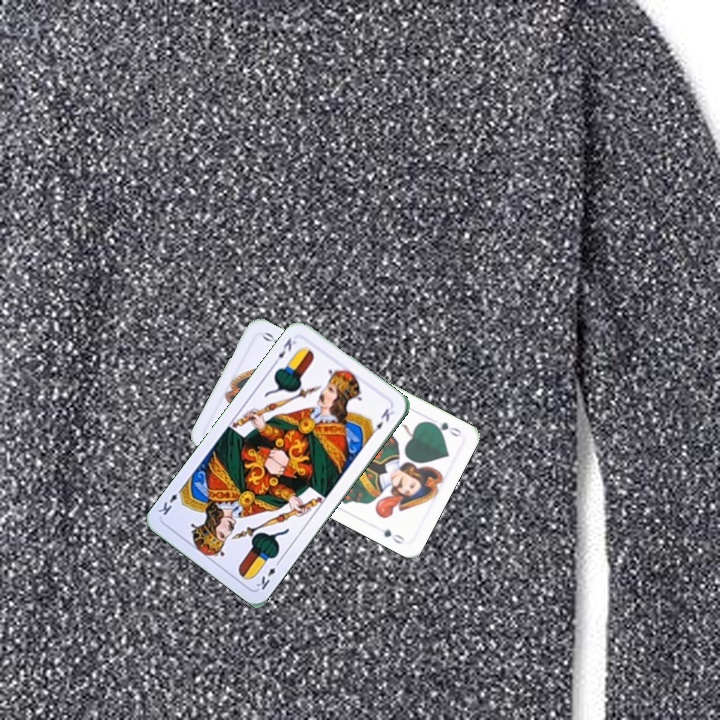EK: (252, 556, 283, 592), (270, 334, 299, 367)
GO: (425, 417, 464, 439)
